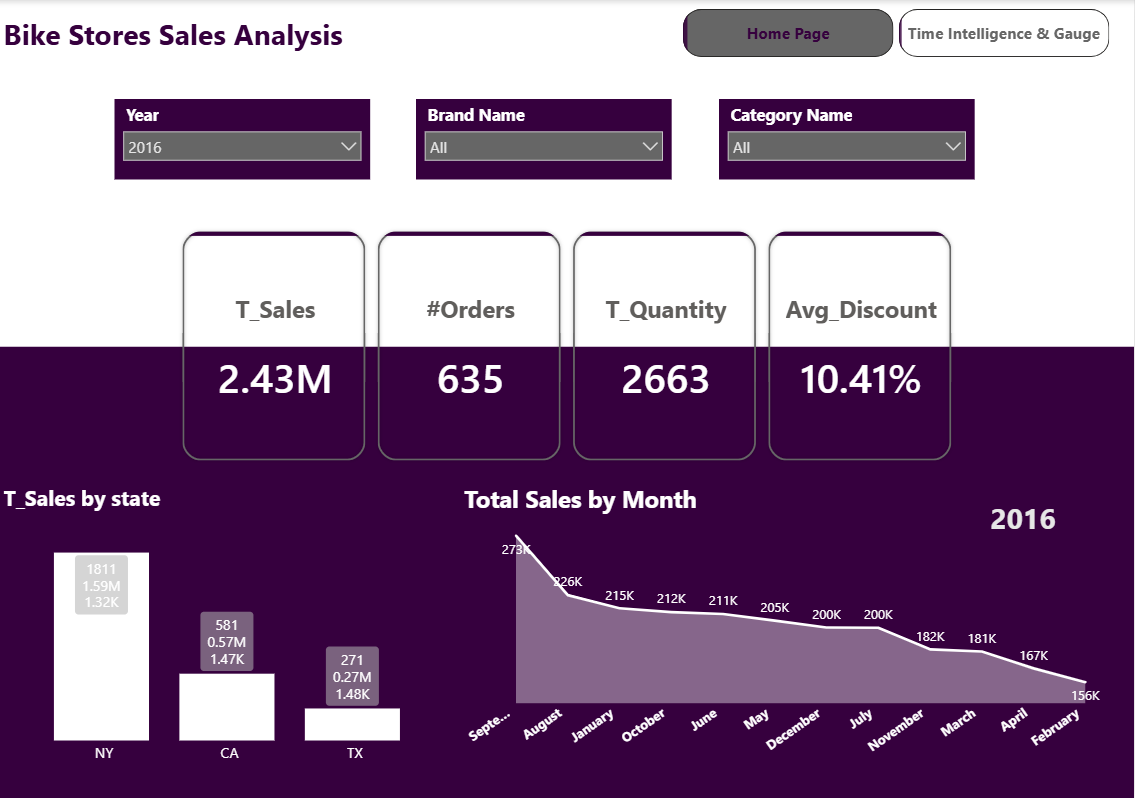

What the dashboard file says about the page in this screenshot:
{"tool":"powerbi","page":{"name":"Home Page","canvas":[1280,900],"ordinal":0},"visuals":[{"type":"shape","box":[0,0,1280.3,390.6],"z":0},{"type":"columnChart","title":"T_Sales by state","fields":{"Category":["Customers.state2"],"Y":["_Measure.T_Sales"]},"box":[0,544.4,518.8,325.7],"z":1000},{"type":"textbox","box":[0,10.9,394.5,54.3],"z":2000},{"type":"cardVisual","fields":{"Data":["_Measure.T_Sales","_Measure.#Orders","_Measure.T_Quantity","_Measure.Avg_Discount"]},"box":[194.5,248.8,891.3,282],"z":3000},{"type":"lineChart","title":"Total Sales by Month","fields":{"Category":["DimDate_Auto.MonthName"],"Y":["_Measure.T_Sales"]},"box":[518.8,544.4,732.9,325.7],"z":4000},{"type":"pageNavigator","box":[770.6,10.6,481.1,54.3],"z":5000},{"type":"slicer","fields":{"Values":["DimDate_Auto.Year"]},"box":[129.6,110.7,288.3,90.8],"z":6000},{"type":"slicer","fields":{"Values":["Product.brand_name"]},"box":[470.4,110.7,288.3,90.8],"z":7000},{"type":"slicer","fields":{"Values":["Product.category_name"]},"box":[811.2,110.7,288.3,90.8],"z":8000},{"type":"cardVisual","fields":{"Data":["Min(DimDate_Auto.Year)"]},"box":[1056.7,545,195,71.7],"z":9000}]}

Visuals, with their boxes in screenshot pixels (x1, y1, x2, y2), scaled from the page's 1280x900 canvas onto the 1135x798 screenshot:
shape: 0 0 1134 346
"T_Sales by state" columnChart: 0 483 460 771
textbox: 0 10 350 58
cardVisual - _Measure.T_Sales x _Measure.#Orders: 172 221 963 471
"Total Sales by Month" lineChart: 460 483 1110 771
pageNavigator: 683 9 1110 58
slicer - DimDate_Auto.Year: 115 98 371 179
slicer - Product.brand_name: 417 98 673 179
slicer - Product.category_name: 719 98 975 179
cardVisual - Min(DimDate_Auto.Year): 937 483 1110 547
